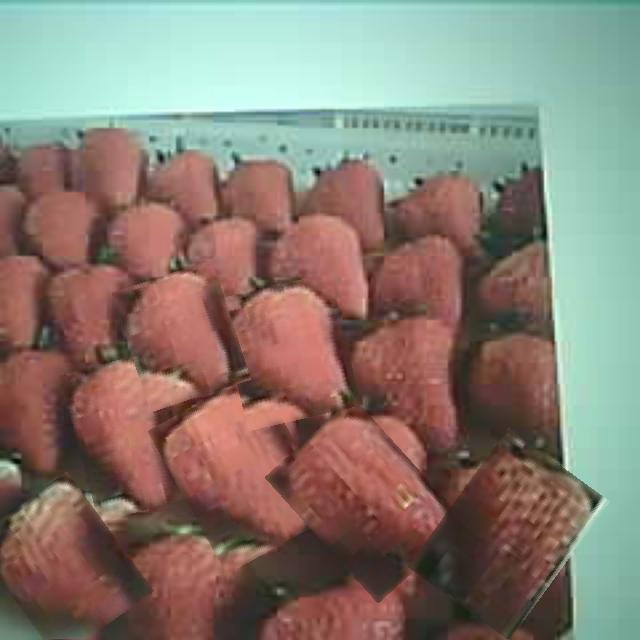strawberry: (426, 439, 592, 631), (286, 406, 446, 594), (163, 381, 320, 565), (0, 481, 138, 640), (69, 355, 187, 517), (224, 279, 354, 426), (121, 266, 243, 406)
